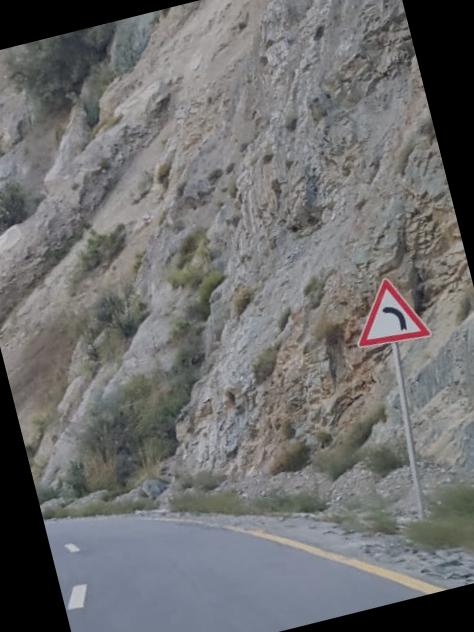right_turn: (33, 421, 302, 632), (342, 267, 432, 357)
